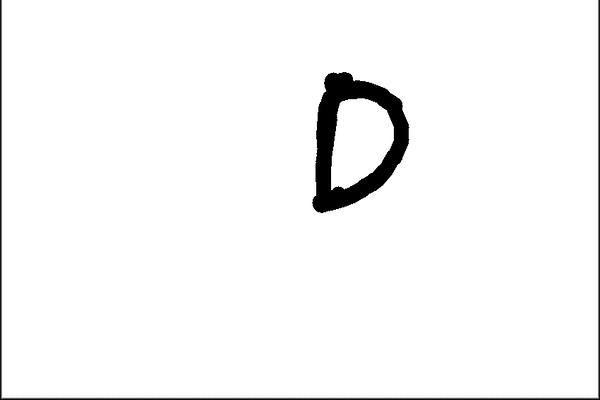D: (302, 65, 415, 215)
